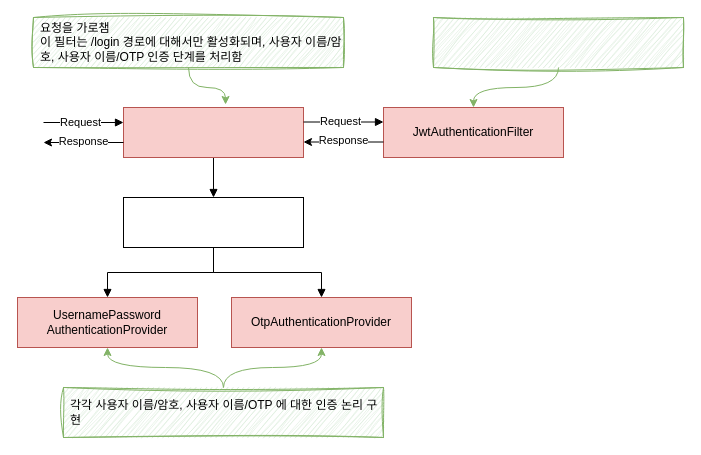
This 701x455 diagram has some shape labels left out. Here are the shapes that lost their labels. From the top down, the box of each, then its label:
(432, 16, 684, 68): /login 을 제외한 모든 경로에 적용되며, 엔드포인트를 호출할 수 있도록 JWT 를 검증함
(122, 106, 304, 158): InitialAuthenticationFilter
(122, 196, 304, 248): AuthenticationManager
